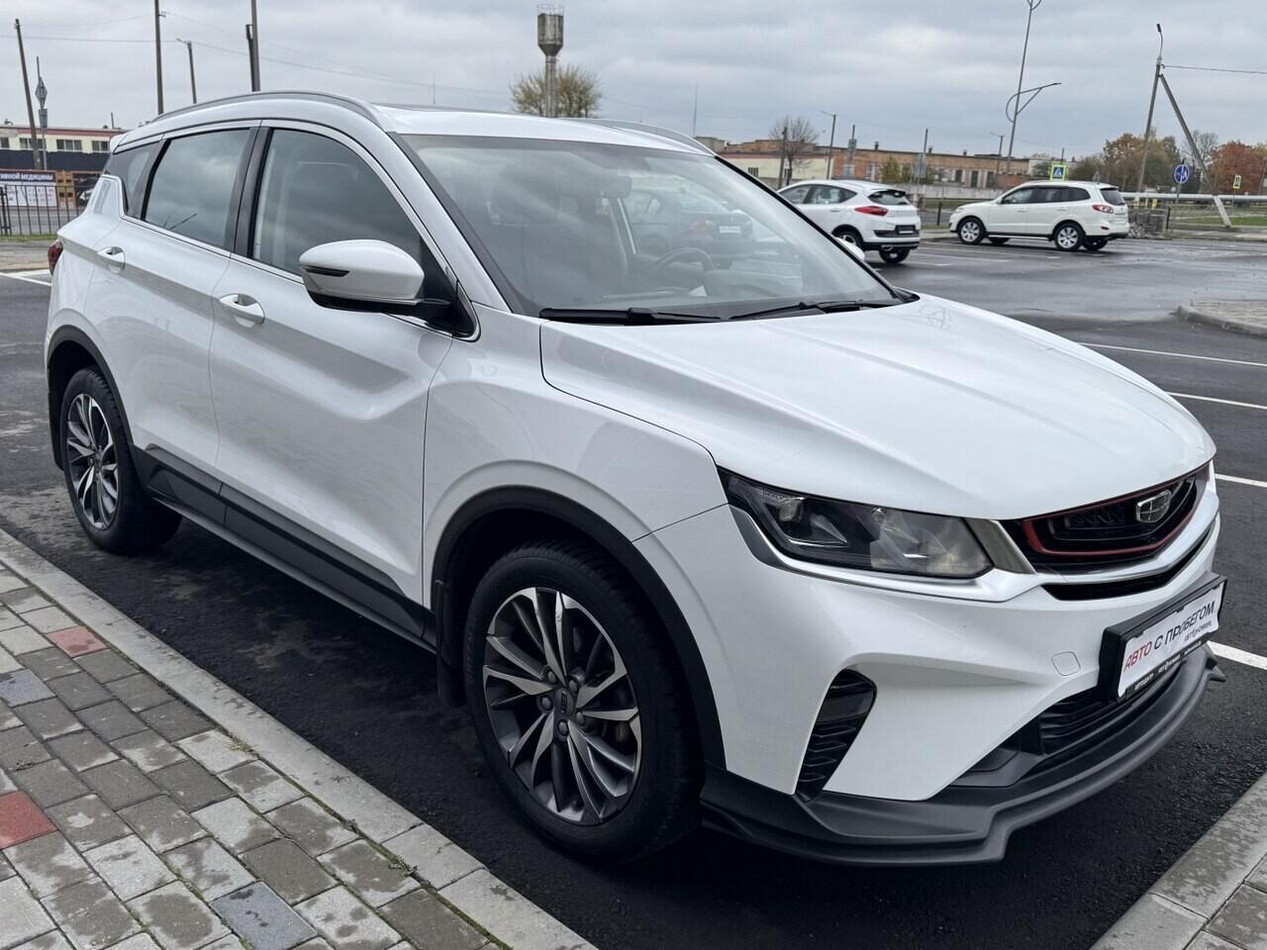Coolray_2019-2023: (42, 101, 1219, 865)
